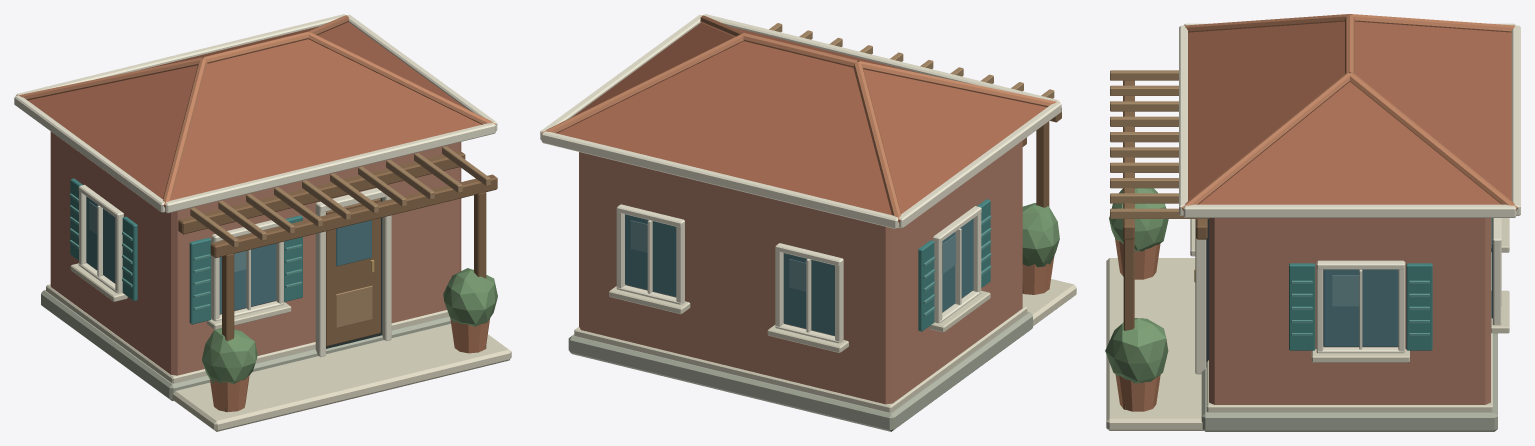
The model's file is house_courtyard_villa.glb.
The picture shows the model from 3 angles, left to right: view 1: azimuth 30°, elevation 25°; view 2: azimuth 150°, elevation 25°; view 3: azimuth 270°, elevation 25°; orthographic projection. The views are drawn at different scales.
Parts seen in each view (by area): view 1: house_courtyard_villa; view 2: house_courtyard_villa; view 3: house_courtyard_villa.
Boxes of the visible parts, x1,y1,x2,y2 form: house_courtyard_villa: [14, 14, 511, 431]; house_courtyard_villa: [540, 14, 1076, 431]; house_courtyard_villa: [1105, 14, 1520, 431].
Size of the model in its own units: 4.81 by 3.74 by 4.57.
